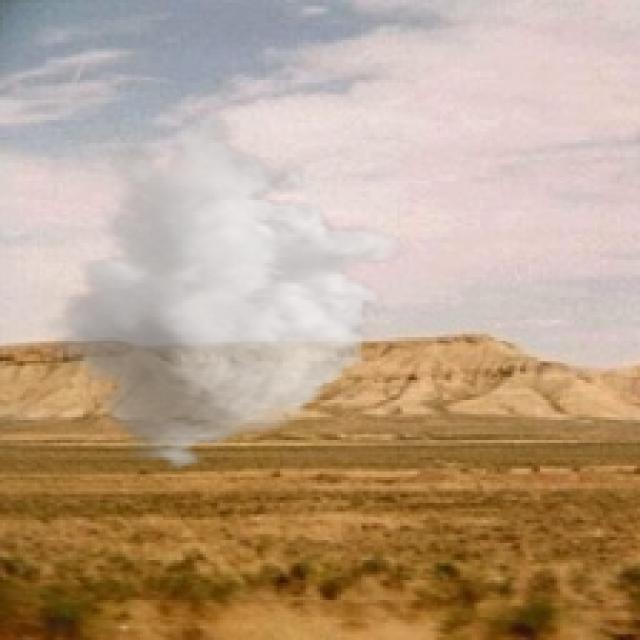Smoke: (42, 109, 408, 472)
